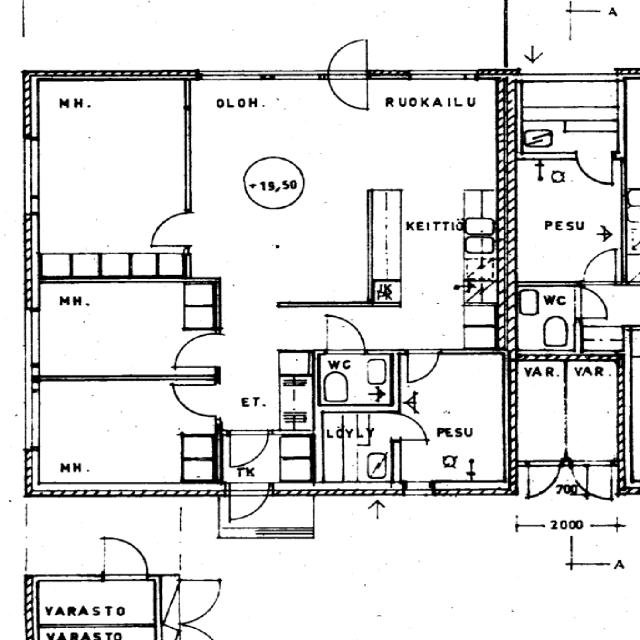door: (323, 36, 372, 116), (172, 575, 222, 631), (97, 532, 154, 581), (169, 328, 222, 374), (144, 207, 196, 253), (167, 376, 220, 419), (319, 313, 368, 356), (520, 458, 566, 502), (224, 481, 272, 523), (225, 428, 271, 469), (579, 246, 622, 286), (569, 461, 613, 499), (389, 411, 432, 447), (402, 348, 442, 386), (576, 154, 620, 188), (574, 285, 610, 322)
window: (18, 136, 44, 203), (20, 306, 45, 373), (22, 384, 44, 450), (405, 66, 475, 86), (194, 66, 264, 84), (519, 348, 566, 367), (39, 570, 97, 585), (270, 68, 321, 83), (402, 479, 434, 499)
zone: (182, 84, 366, 316), (32, 78, 189, 275), (365, 101, 496, 303), (31, 377, 218, 492), (32, 279, 210, 379), (506, 155, 624, 285), (396, 354, 508, 490), (31, 576, 159, 633), (318, 409, 396, 492), (512, 281, 581, 358), (315, 351, 394, 409), (517, 80, 619, 122), (36, 622, 160, 640), (518, 120, 572, 158), (622, 185, 640, 293)
